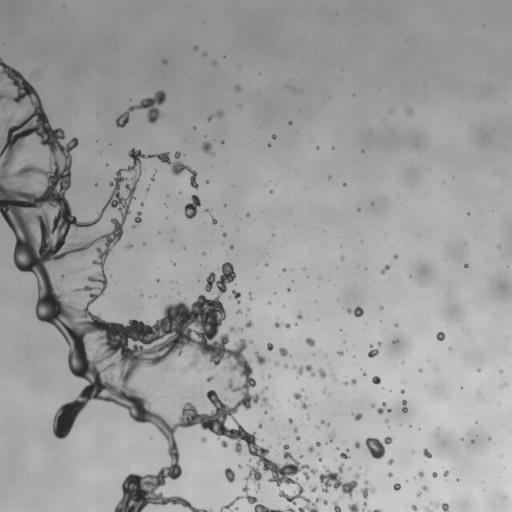droplet: (319, 463, 359, 497), (365, 436, 392, 458), (184, 195, 200, 218), (293, 364, 315, 376), (361, 481, 375, 498), (347, 306, 363, 317), (377, 402, 391, 414), (202, 142, 214, 155), (254, 351, 266, 364), (224, 468, 235, 482), (229, 290, 240, 302), (368, 344, 378, 357), (436, 331, 445, 341), (305, 337, 315, 346), (348, 503, 359, 511), (279, 347, 288, 356), (318, 368, 326, 378), (352, 412, 362, 420), (423, 448, 431, 458), (333, 501, 341, 511), (372, 376, 380, 384), (293, 392, 301, 400), (206, 375, 215, 382), (328, 433, 335, 442), (340, 452, 349, 458), (216, 110, 223, 117), (393, 483, 400, 490), (310, 485, 317, 492), (245, 321, 252, 327), (283, 322, 290, 328), (267, 343, 273, 350), (354, 441, 360, 448), (234, 85, 240, 91), (229, 326, 235, 332), (418, 471, 424, 477), (411, 505, 417, 511), (212, 217, 217, 224), (331, 374, 336, 381), (297, 313, 302, 319), (302, 403, 308, 408), (200, 437, 206, 442), (308, 446, 313, 452), (387, 459, 393, 464), (443, 470, 448, 476), (275, 322, 280, 327), (432, 472, 437, 477), (422, 485, 427, 490), (406, 109, 412, 113), (272, 134, 276, 139), (127, 244, 132, 248), (236, 309, 241, 313), (393, 339, 398, 343), (338, 351, 343, 355), (501, 383, 506, 387), (288, 418, 292, 423), (293, 427, 297, 432), (388, 472, 392, 477), (151, 175, 154, 181), (193, 46, 197, 50), (208, 116, 212, 120), (394, 255, 398, 259), (377, 342, 381, 346), (284, 364, 288, 368), (400, 389, 404, 393), (316, 442, 320, 446), (205, 209, 210, 212), (61, 274, 64, 279), (259, 423, 262, 428), (318, 456, 321, 461), (341, 256, 344, 260), (464, 264, 468, 267), (395, 323, 398, 327), (384, 419, 388, 422), (363, 502, 366, 506), (163, 60, 166, 63), (289, 121, 292, 124), (268, 143, 271, 146), (146, 187, 149, 190), (246, 213, 249, 216), (223, 233, 226, 236), (230, 245, 233, 248), (202, 252, 205, 255), (248, 293, 251, 296), (499, 370, 502, 373), (371, 404, 374, 407), (296, 437, 299, 440), (203, 53, 206, 55), (361, 150, 364, 152), (343, 183, 346, 185), (270, 190, 272, 193), (283, 268, 285, 271), (380, 306, 382, 309), (419, 368, 421, 371), (264, 411, 267, 413), (336, 447, 339, 449), (238, 465, 241, 467), (418, 493, 421, 495), (213, 62, 215, 64), (194, 127, 196, 129), (221, 141, 223, 143), (206, 181, 208, 183), (95, 183, 97, 185), (141, 203, 143, 205), (265, 263, 267, 265), (157, 279, 159, 281), (287, 288, 289, 290), (276, 363, 278, 365), (477, 369, 479, 371), (316, 426, 318, 428), (300, 455, 302, 457)
ligament: (0, 58, 319, 511), (220, 484, 295, 511), (115, 90, 165, 127), (431, 502, 450, 511), (133, 211, 141, 227), (342, 378, 356, 385), (380, 265, 390, 274), (402, 400, 407, 412), (261, 386, 267, 393), (321, 420, 329, 425), (370, 509, 383, 511), (425, 508, 432, 511)
